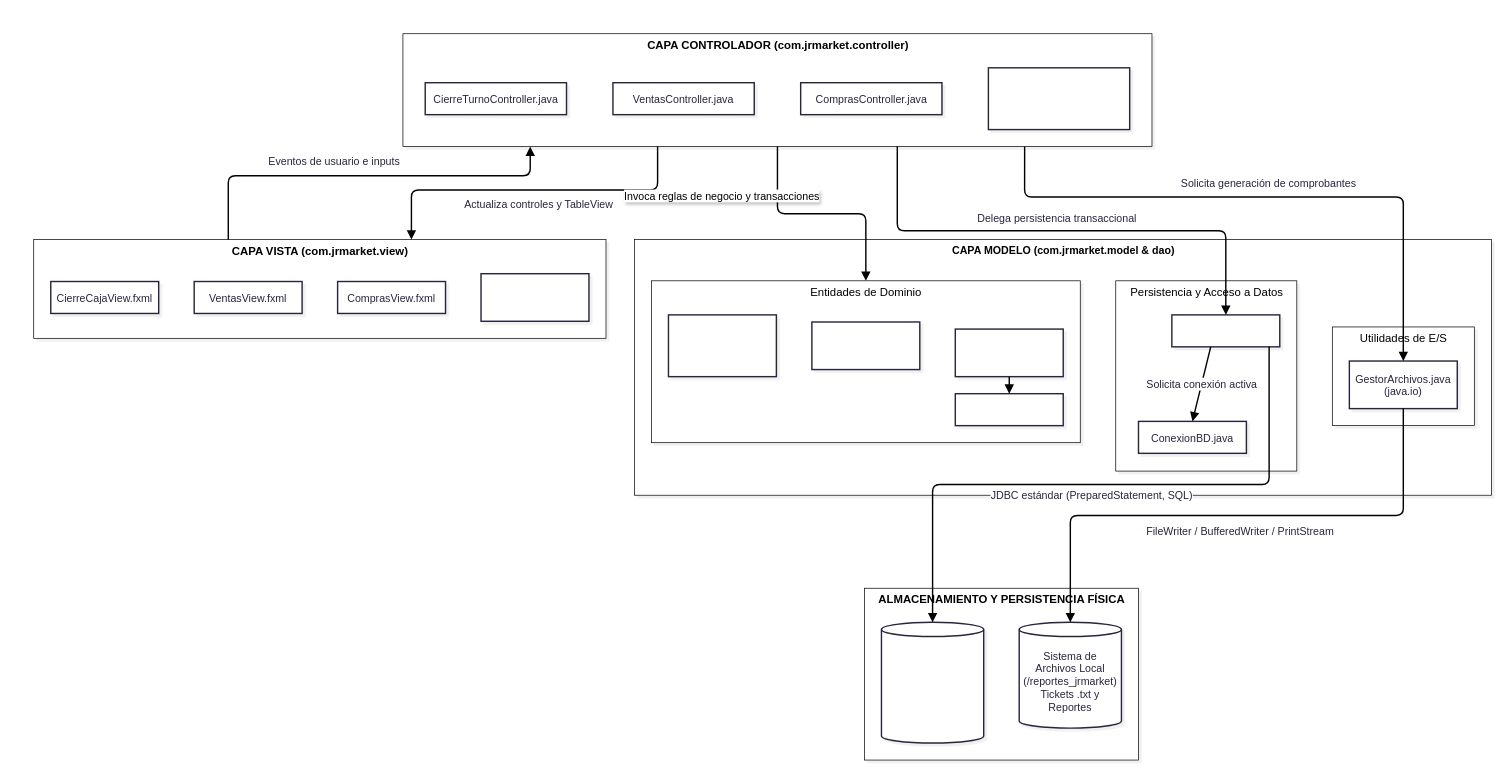
The diagram is 1507 pixels wide and 775 high, and some of its shapes have lost their labels. The centre of each missing label's shape, as x and y in pixels:
"Comprobante (Abstracta)" belongs at point 1010,354.
"DetalleVenta / DetalleCompra" belongs at point 867,347.
"JRMarketDAO.java" belongs at point 1227,332.
"MySQL Server 8.0 (jrmarket - 16 Tablas InnoDB) Puerto 3306" belongs at point 933,683.
"Producto / TurnoCaja / Usuario" belongs at point 723,347.
"ProductoController.java / LoginController.java" belongs at point 1060,100.
"ProductoView.fxml / LoginView.fxml" belongs at point 536,298.
"Venta / Compra" belongs at point 1010,411.
